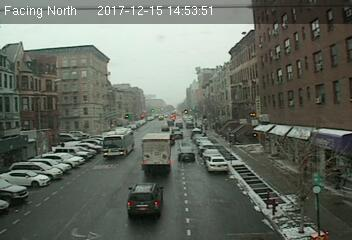bus: (103, 129, 135, 157)
car: (126, 181, 164, 218), (205, 155, 227, 172), (177, 146, 196, 164), (173, 131, 183, 139)
truck: (141, 132, 171, 175)
